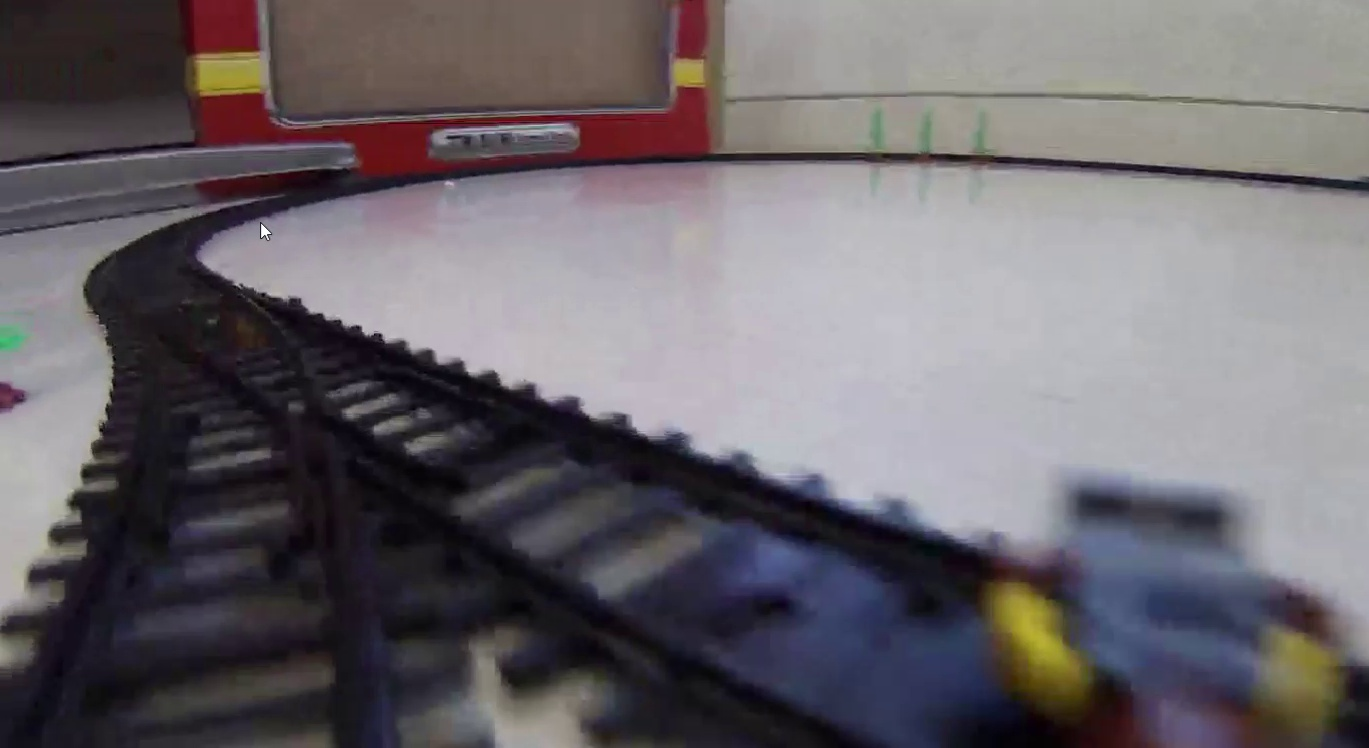people: (1001, 469, 1337, 748)
